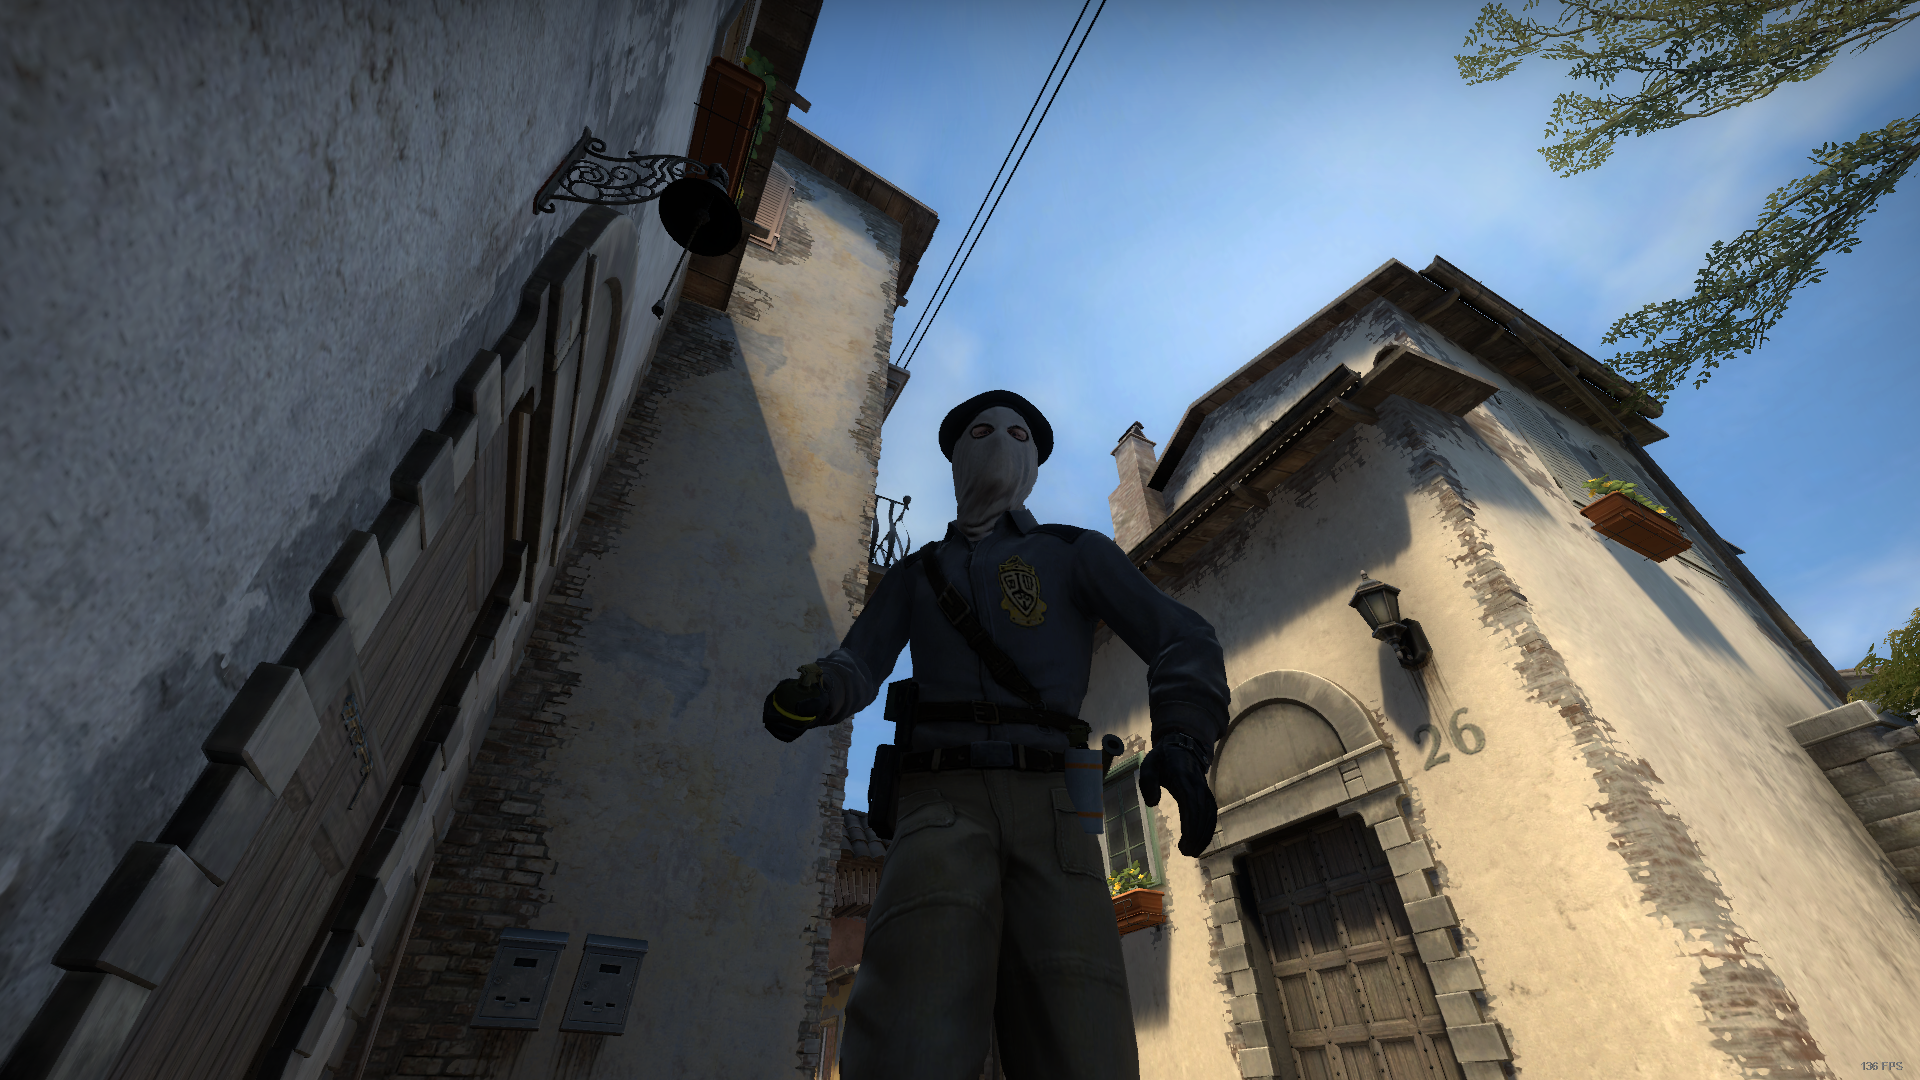t: (750, 386, 1237, 1080)
